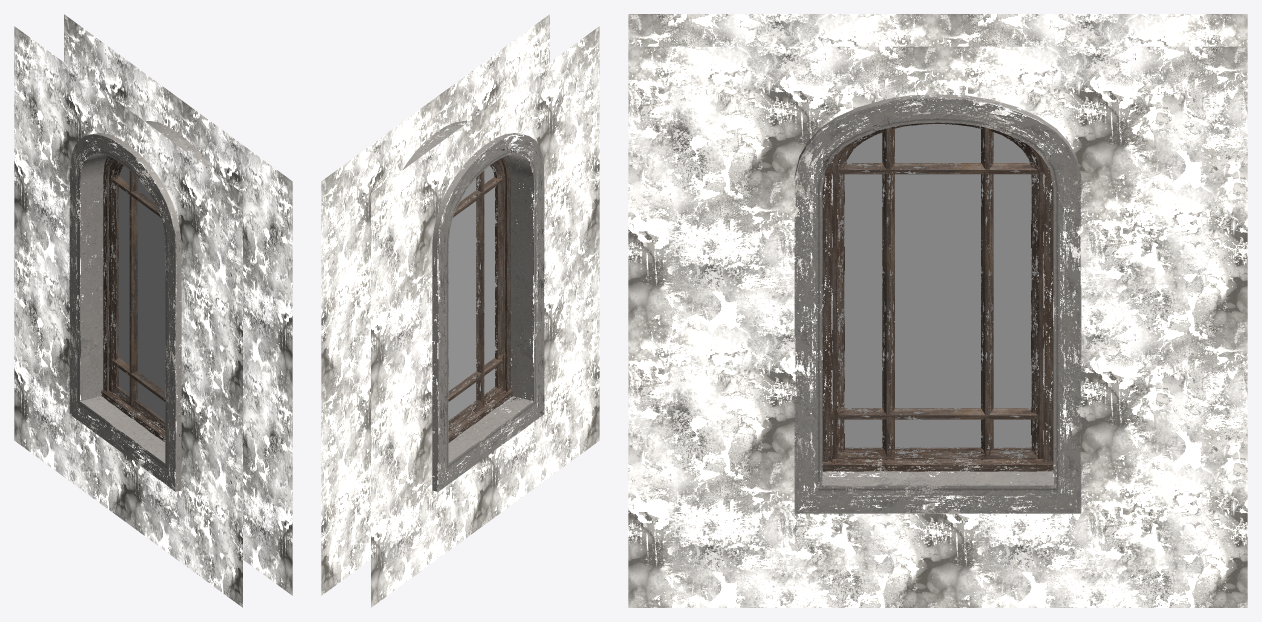
File: SM_wall_A_window_4x4_03_01.fbx
The picture shows the model from 3 angles, left to right: view 1: azimuth 30°, elevation 25°; view 2: azimuth 150°, elevation 25°; view 3: azimuth 270°, elevation 25°; orthographic projection. The views are drawn at different scales.
Parts seen in each view (by area): view 1: SM_wall_A_window_4x4_03_01_LOD0; view 2: SM_wall_A_window_4x4_03_01_LOD0; view 3: SM_wall_A_window_4x4_03_01_LOD0.
Part boxes in pixels (x1,y1,x2,y2): SM_wall_A_window_4x4_03_01_LOD0: (14,14,292,607); SM_wall_A_window_4x4_03_01_LOD0: (321,14,599,607); SM_wall_A_window_4x4_03_01_LOD0: (628,14,1247,607).
Bounding box in the file's own units: 62.17 × 400 × 400.
5 materials, 4 textured.
